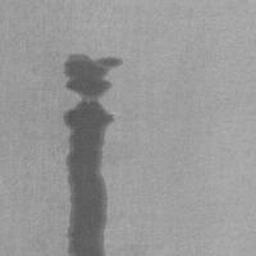Water spot: (63, 51, 124, 256)
